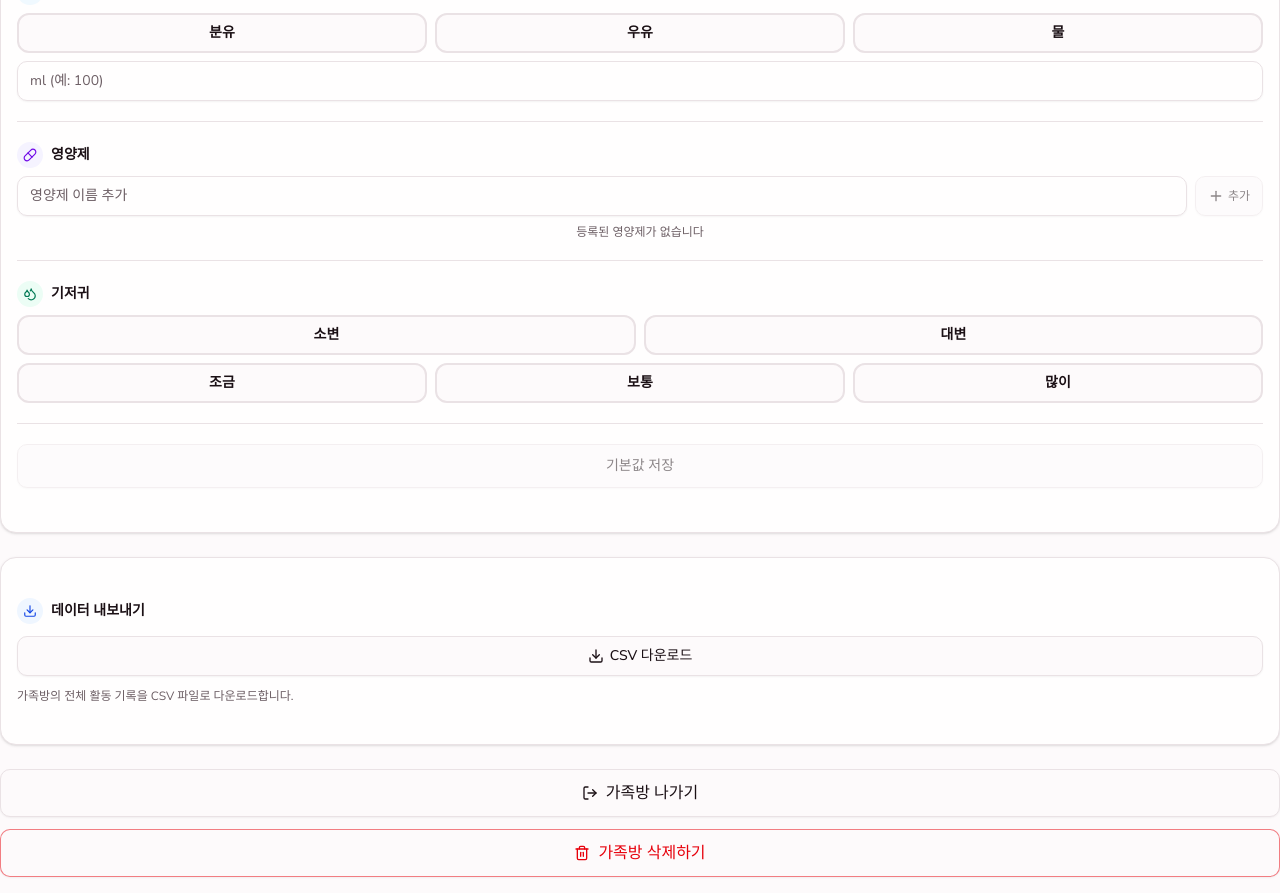
SettingsPage › shows error message on wrong password
(page scrolled)
Click the button "가족방 삭제하기" at x=640, y=852, box [0,828,1279,876]
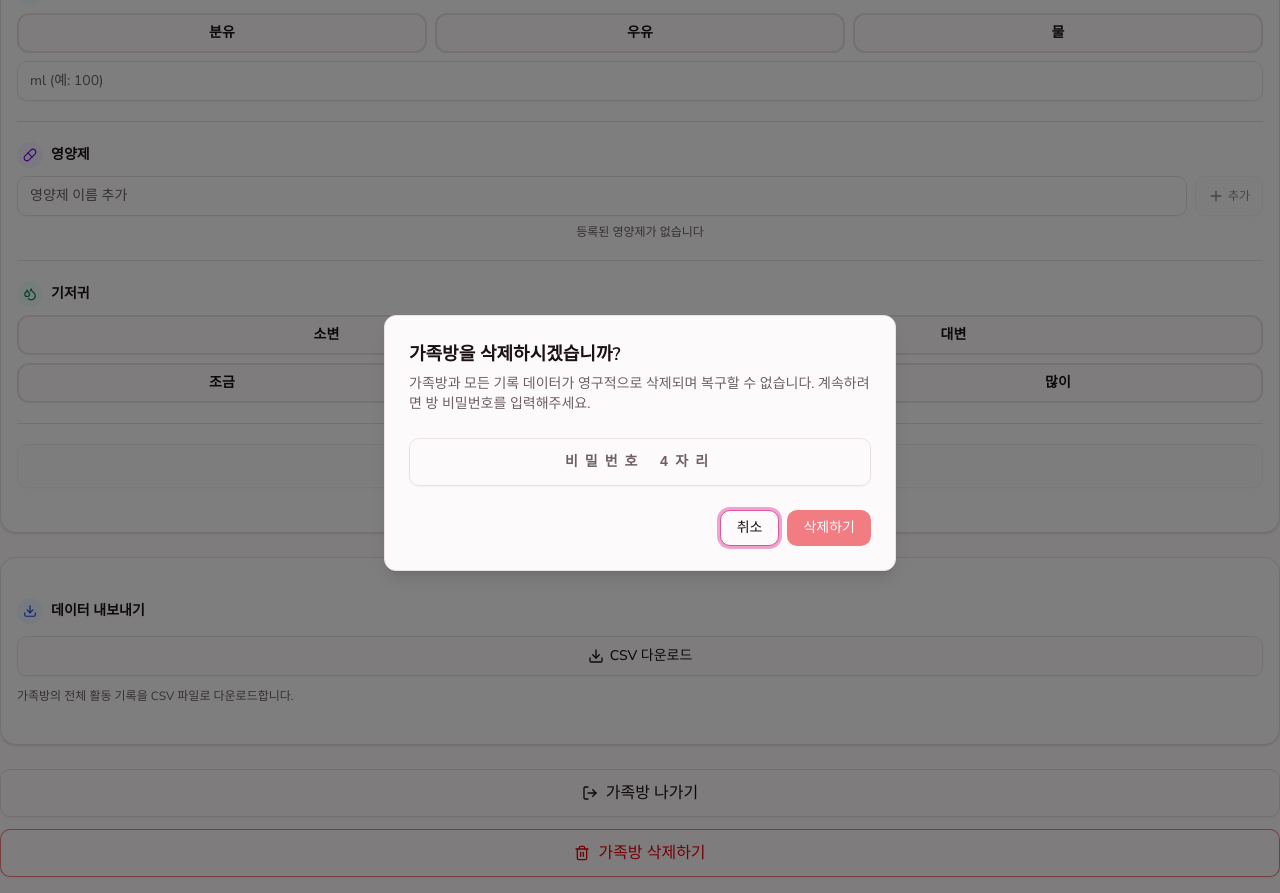
Check: the heading "가족방을 삭제하시겠습니까?" is shown, box [409,340,621,368]
Type "9999" into the field with placeholder "비밀번호 4자리" at x=640, y=462, box [409,438,871,486]
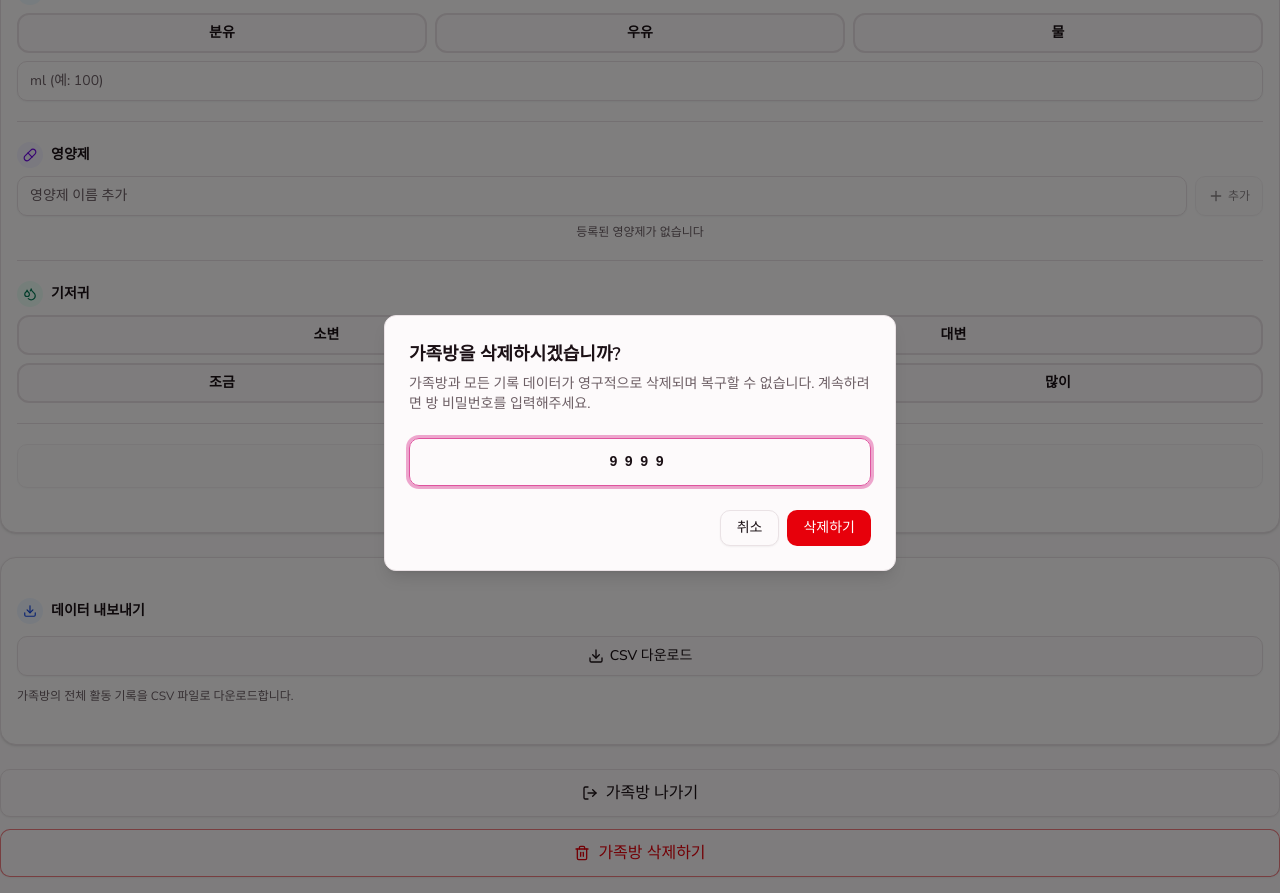
Click the button "삭제하기" at x=829, y=528, box [788,510,871,546]
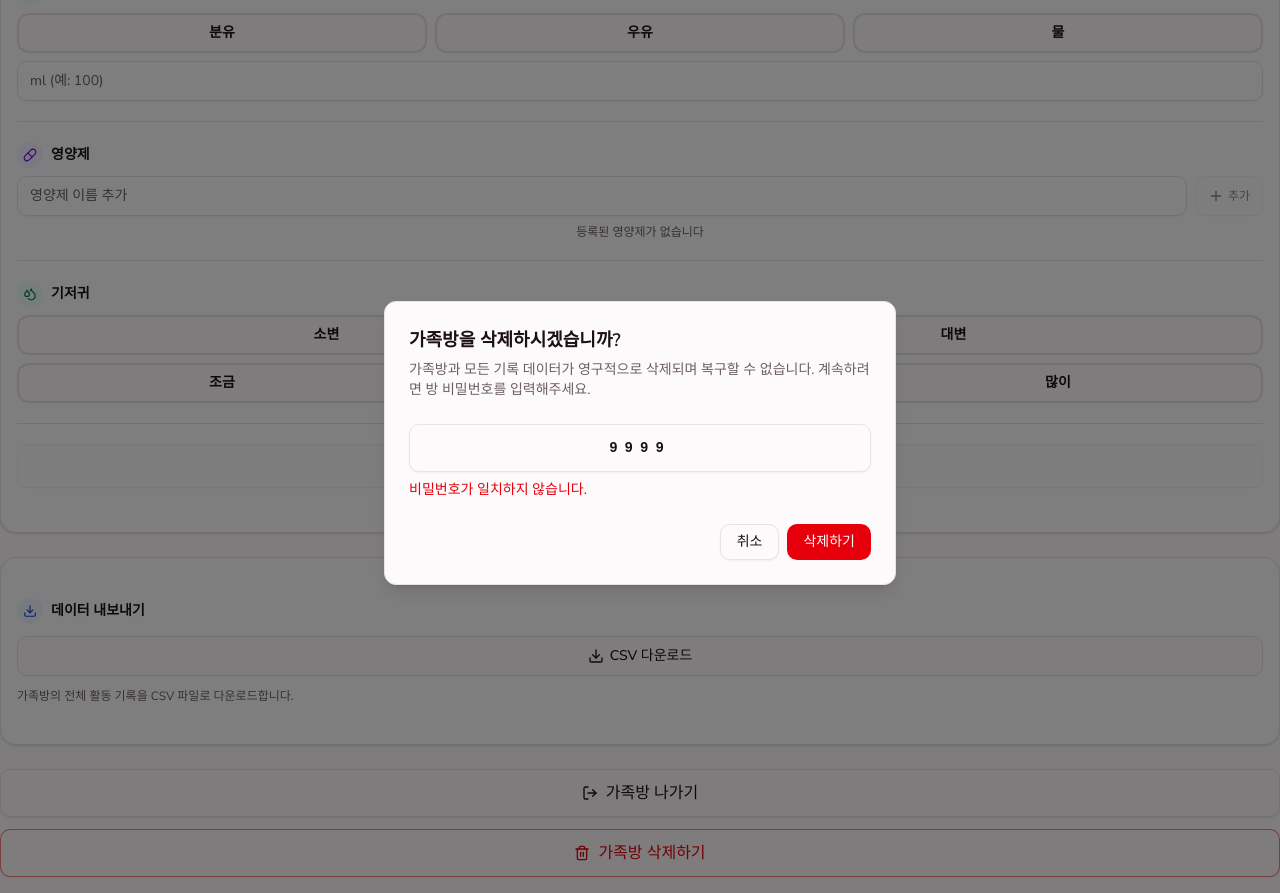
Check: the text "비밀번호가 일치하지 않습니다." is shown, box [409,480,587,499]
